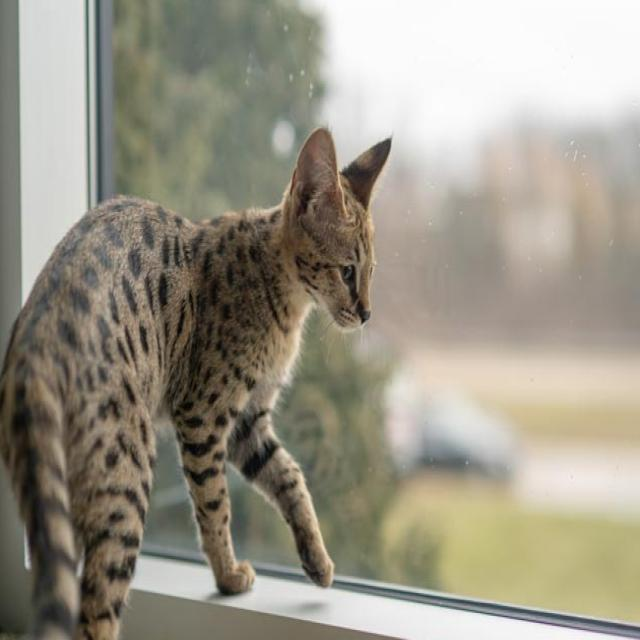Savannah: (0, 118, 398, 640)
